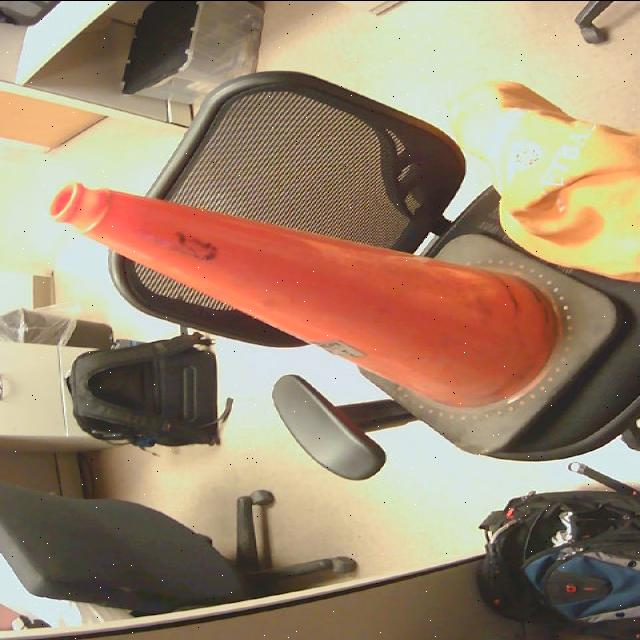traffic cone: (53, 182, 565, 411)
